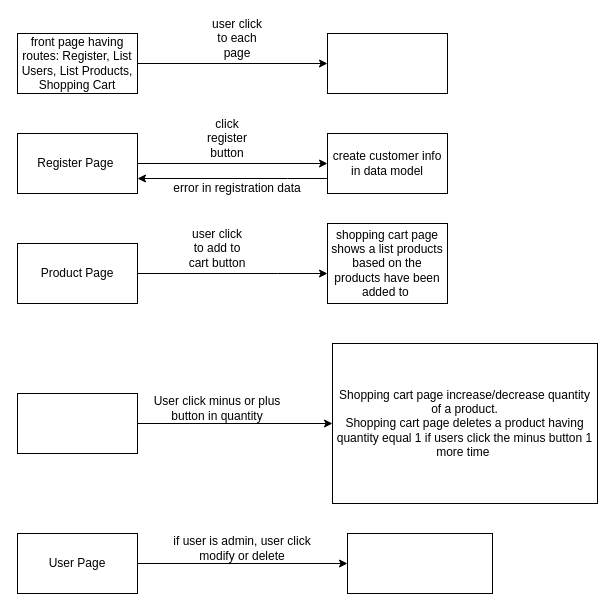
Image size: 615x611. Some labels were removed from this diagram. The centre of each missing label's shape, as x and y in pixels:
"Each Page" belongs at point (387, 63).
"Shopping cart page" belongs at point (77, 423).
"the users data will be removed or updated based on the action of admin" belongs at point (419, 563).
